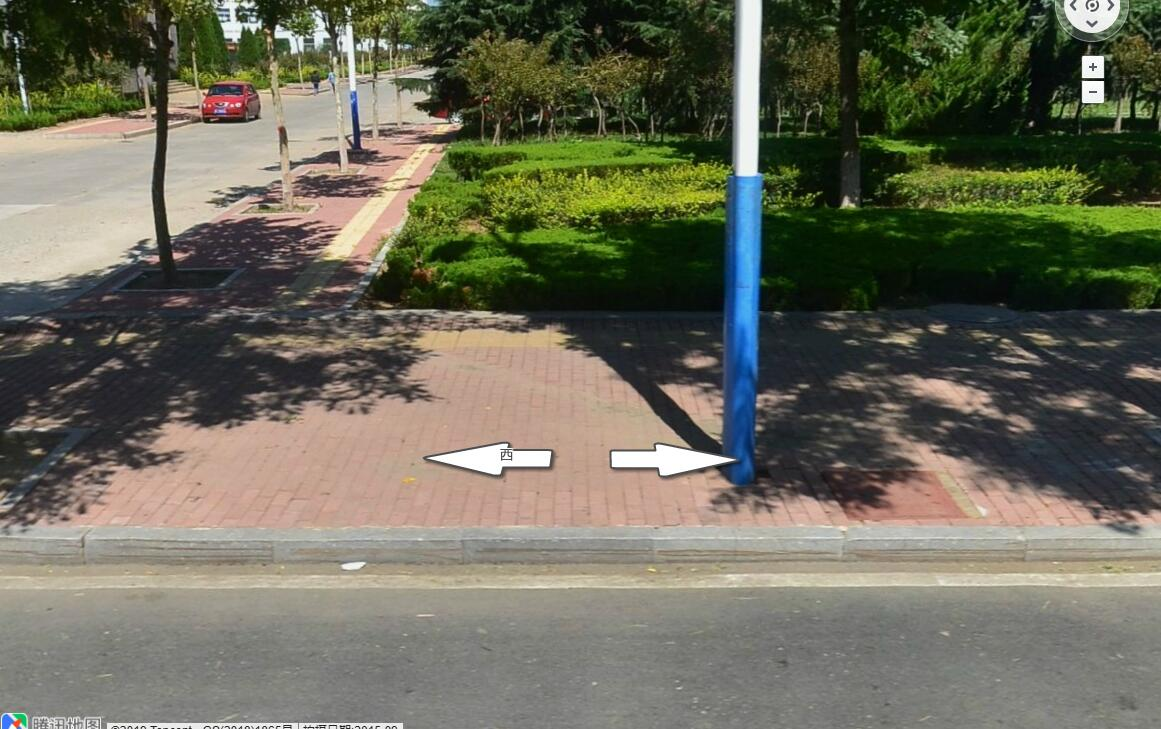side: (82, 526, 275, 567), (273, 527, 465, 567), (651, 527, 847, 563), (843, 525, 1028, 563), (464, 528, 653, 564)
